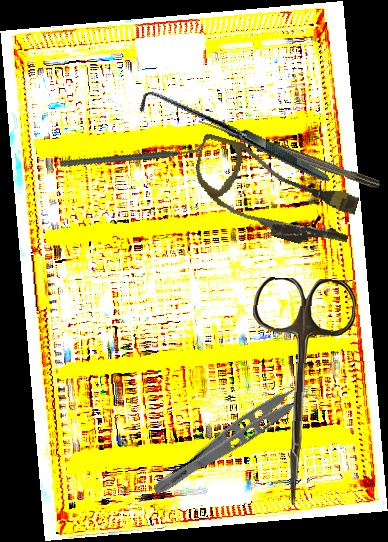Cannula: (183, 132, 365, 257)
Chopper: (59, 101, 206, 208)
Hook Surgical: (134, 39, 331, 240), (197, 115, 381, 191)
Iris Scissors: (246, 276, 357, 508)
Tissue Forceps: (149, 372, 322, 510)
